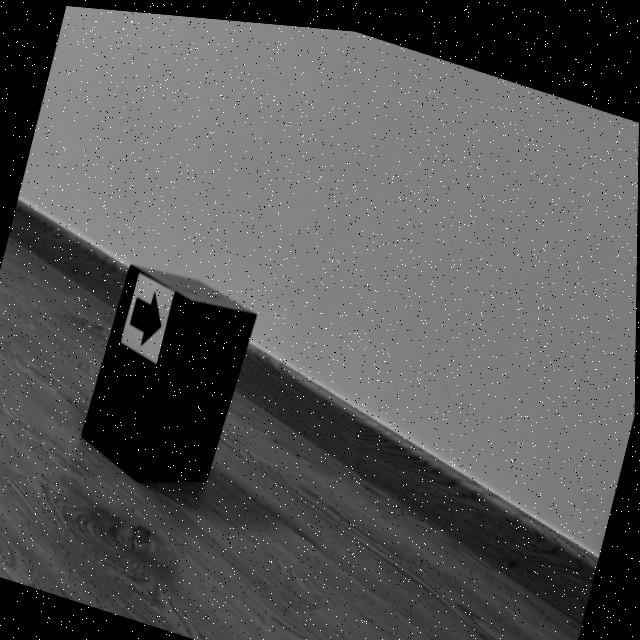RIGHT: (130, 290, 162, 341)
